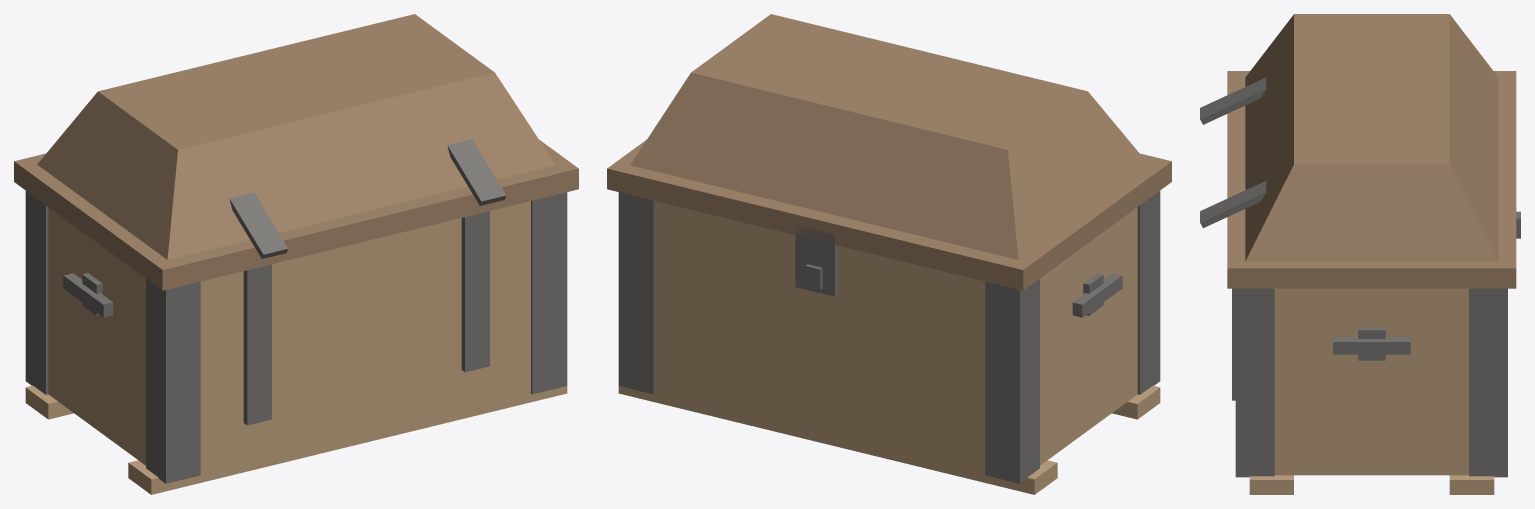
Rendered from prop-chest-wood.fbx.
The picture shows the model from 3 angles, left to right: view 1: azimuth 30°, elevation 25°; view 2: azimuth 150°, elevation 25°; view 3: azimuth 270°, elevation 25°; orthographic projection. The views are drawn at different scales.
Visible parts, largest first — view 1: prop-chest-wood; view 2: prop-chest-wood; view 3: prop-chest-wood.
Boxes of the visible parts, <box> form: prop-chest-wood: <box>14,14,578,494</box>; prop-chest-wood: <box>607,14,1171,494</box>; prop-chest-wood: <box>1200,14,1520,494</box>.
Size of the model in its own units: 0.86 by 0.61 by 0.5771.
